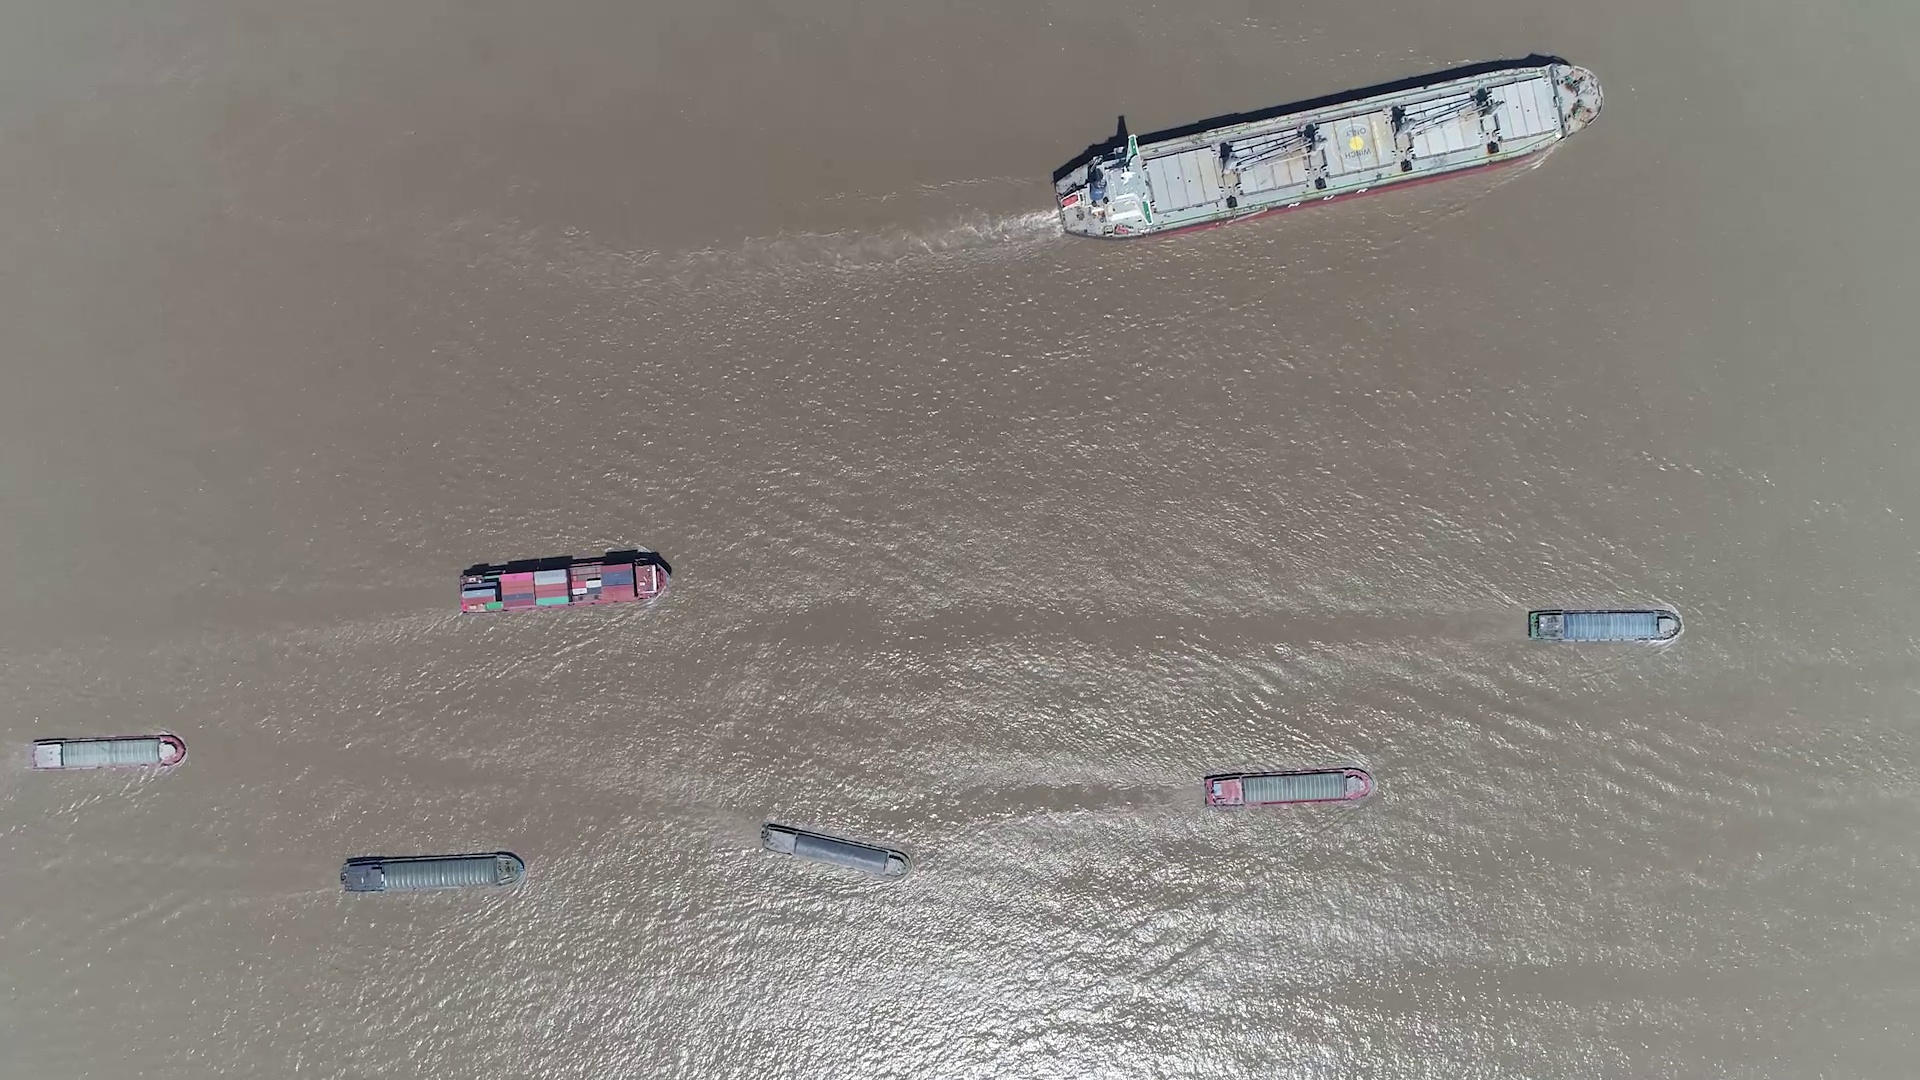ship: (1054, 66, 1604, 237), (460, 556, 670, 615), (760, 823, 907, 877), (342, 851, 524, 891), (1203, 767, 1371, 808), (1528, 608, 1683, 644), (32, 735, 185, 770)
